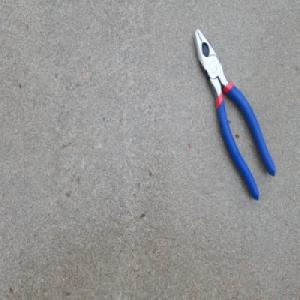Pliers: (192, 26, 275, 202)
